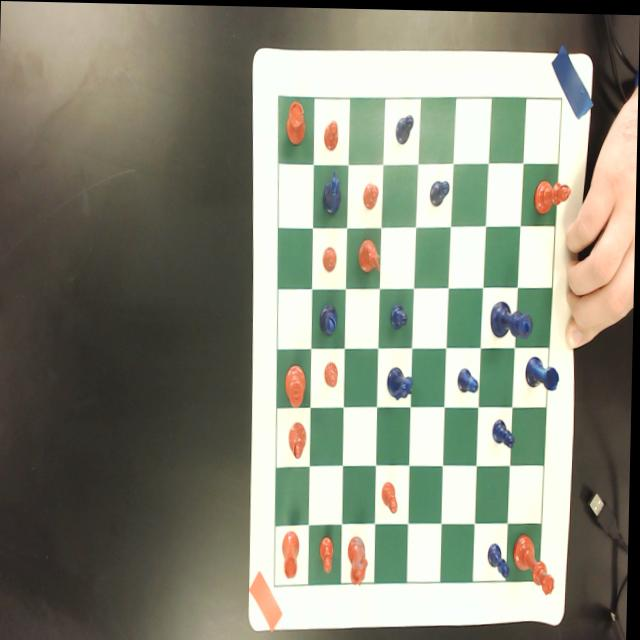B: (320, 302, 339, 334)
K: (489, 298, 534, 337)
N: (388, 365, 415, 400), (322, 166, 341, 214)
P: (489, 540, 512, 576), (492, 415, 516, 447), (394, 111, 415, 141), (458, 365, 480, 391), (390, 300, 409, 329), (429, 177, 450, 203)
R: (525, 354, 561, 389)
b: (534, 175, 572, 213), (290, 419, 308, 457)
cb: (276, 94, 561, 585)
k: (285, 362, 307, 405)
n: (348, 532, 370, 585), (357, 236, 381, 272)
p: (320, 532, 336, 572), (322, 116, 339, 150), (383, 479, 399, 512), (362, 180, 379, 208), (322, 244, 338, 271), (325, 360, 339, 386)
q: (514, 529, 557, 592)
r: (282, 530, 304, 577), (285, 97, 307, 143)
